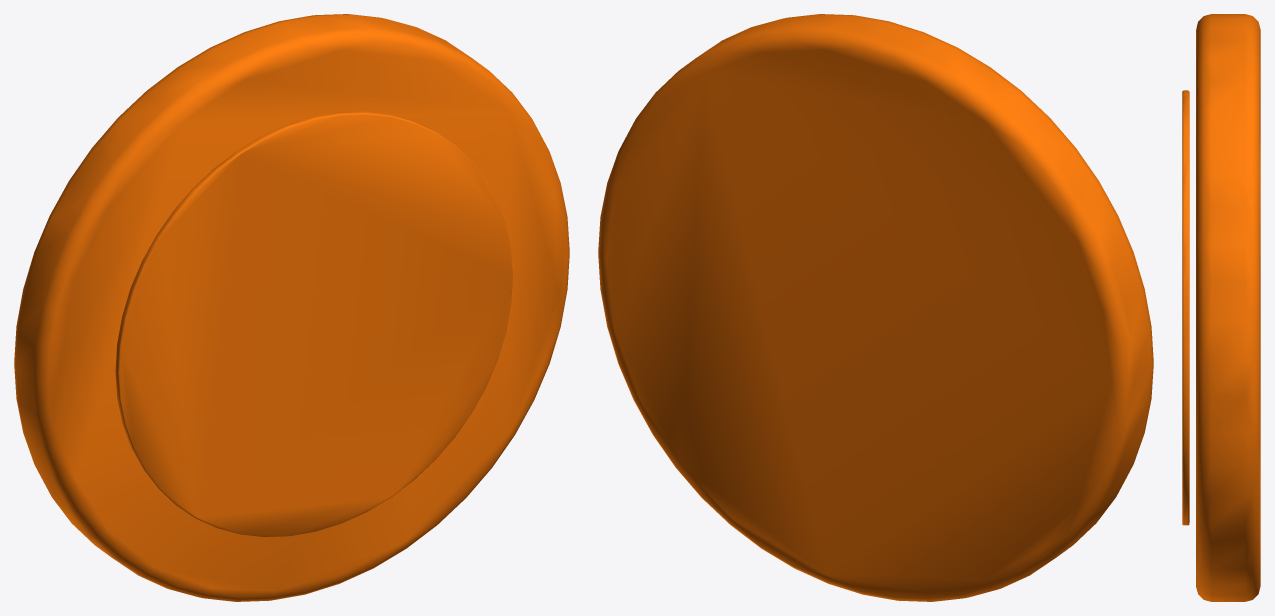
Rendered from loot-bag-gold.obj.
The picture shows the model from 3 angles, left to right: view 1: azimuth 30°, elevation 25°; view 2: azimuth 150°, elevation 25°; view 3: azimuth 270°, elevation 25°; orthographic projection. The views are drawn at different scales.
Parts seen in each view (by area): view 1: Gold; view 2: Gold; view 3: Gold.
Part boxes in pixels (bbox=[...]): Gold: bbox=[14, 14, 569, 601]; Gold: bbox=[598, 14, 1153, 601]; Gold: bbox=[1182, 14, 1260, 601].
Bounding box in the file's own units: 1.09 × 1.09 × 0.1456.
